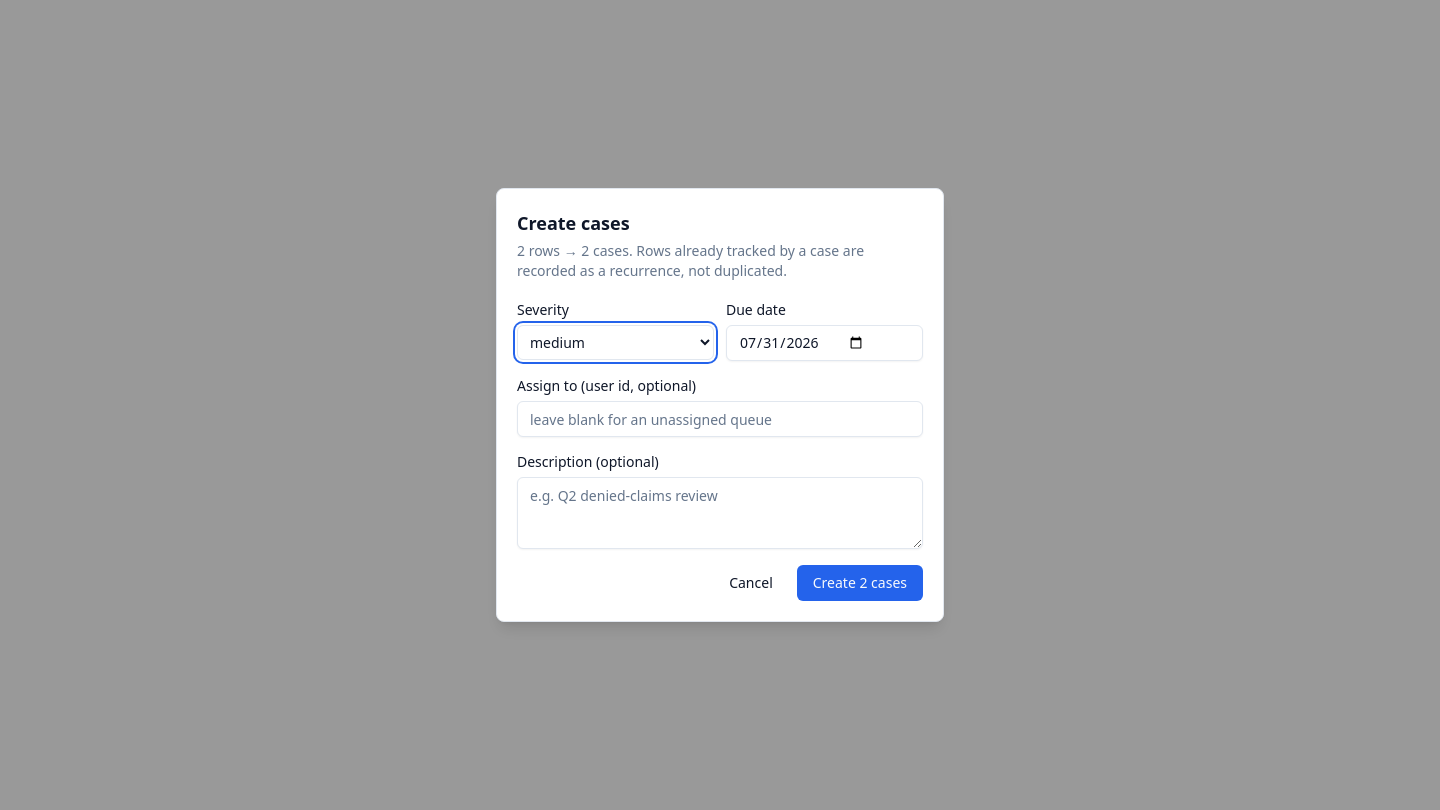
Test case: CreateCasesDialog › blocks submit with no due date
This screenshot has width=1440, height=810.
Clear the date field labelled "Due date" at {"x": 824, "y": 343}, box [726,325,923,361]
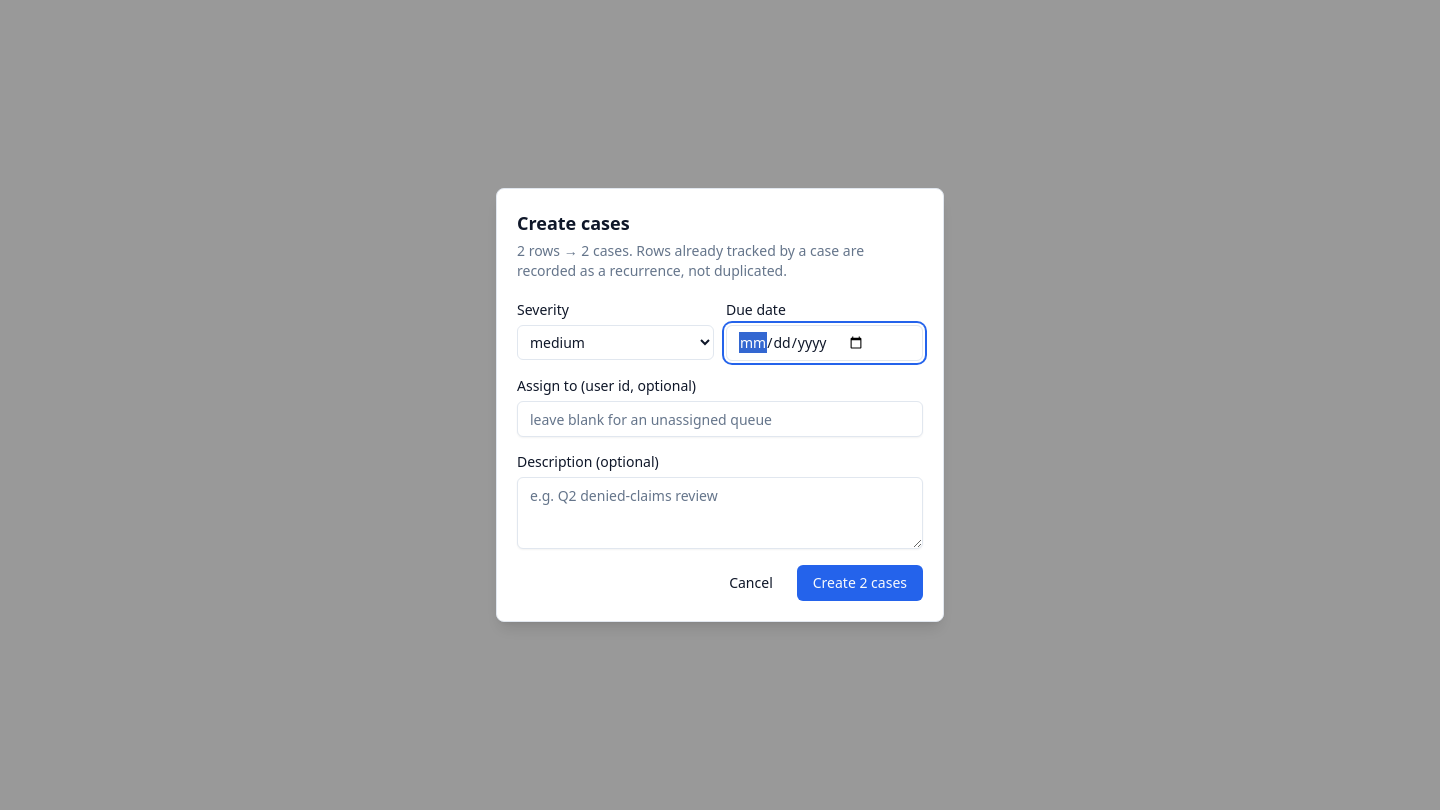
Click the button "Create 2 cases" at {"x": 860, "y": 583}, box [797,565,923,601]
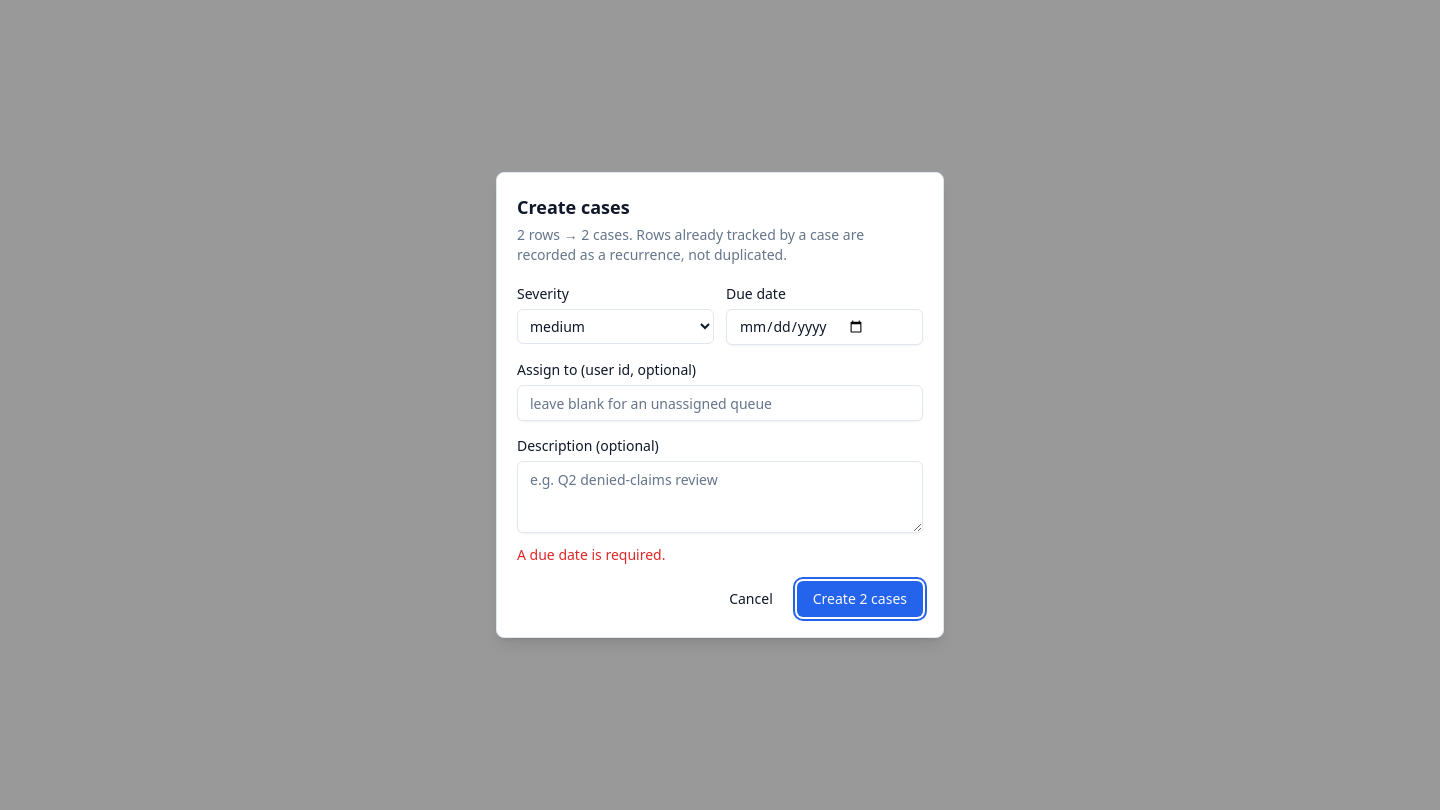
Expected: the text "A due date is required." is shown, [517,545,665,564]
